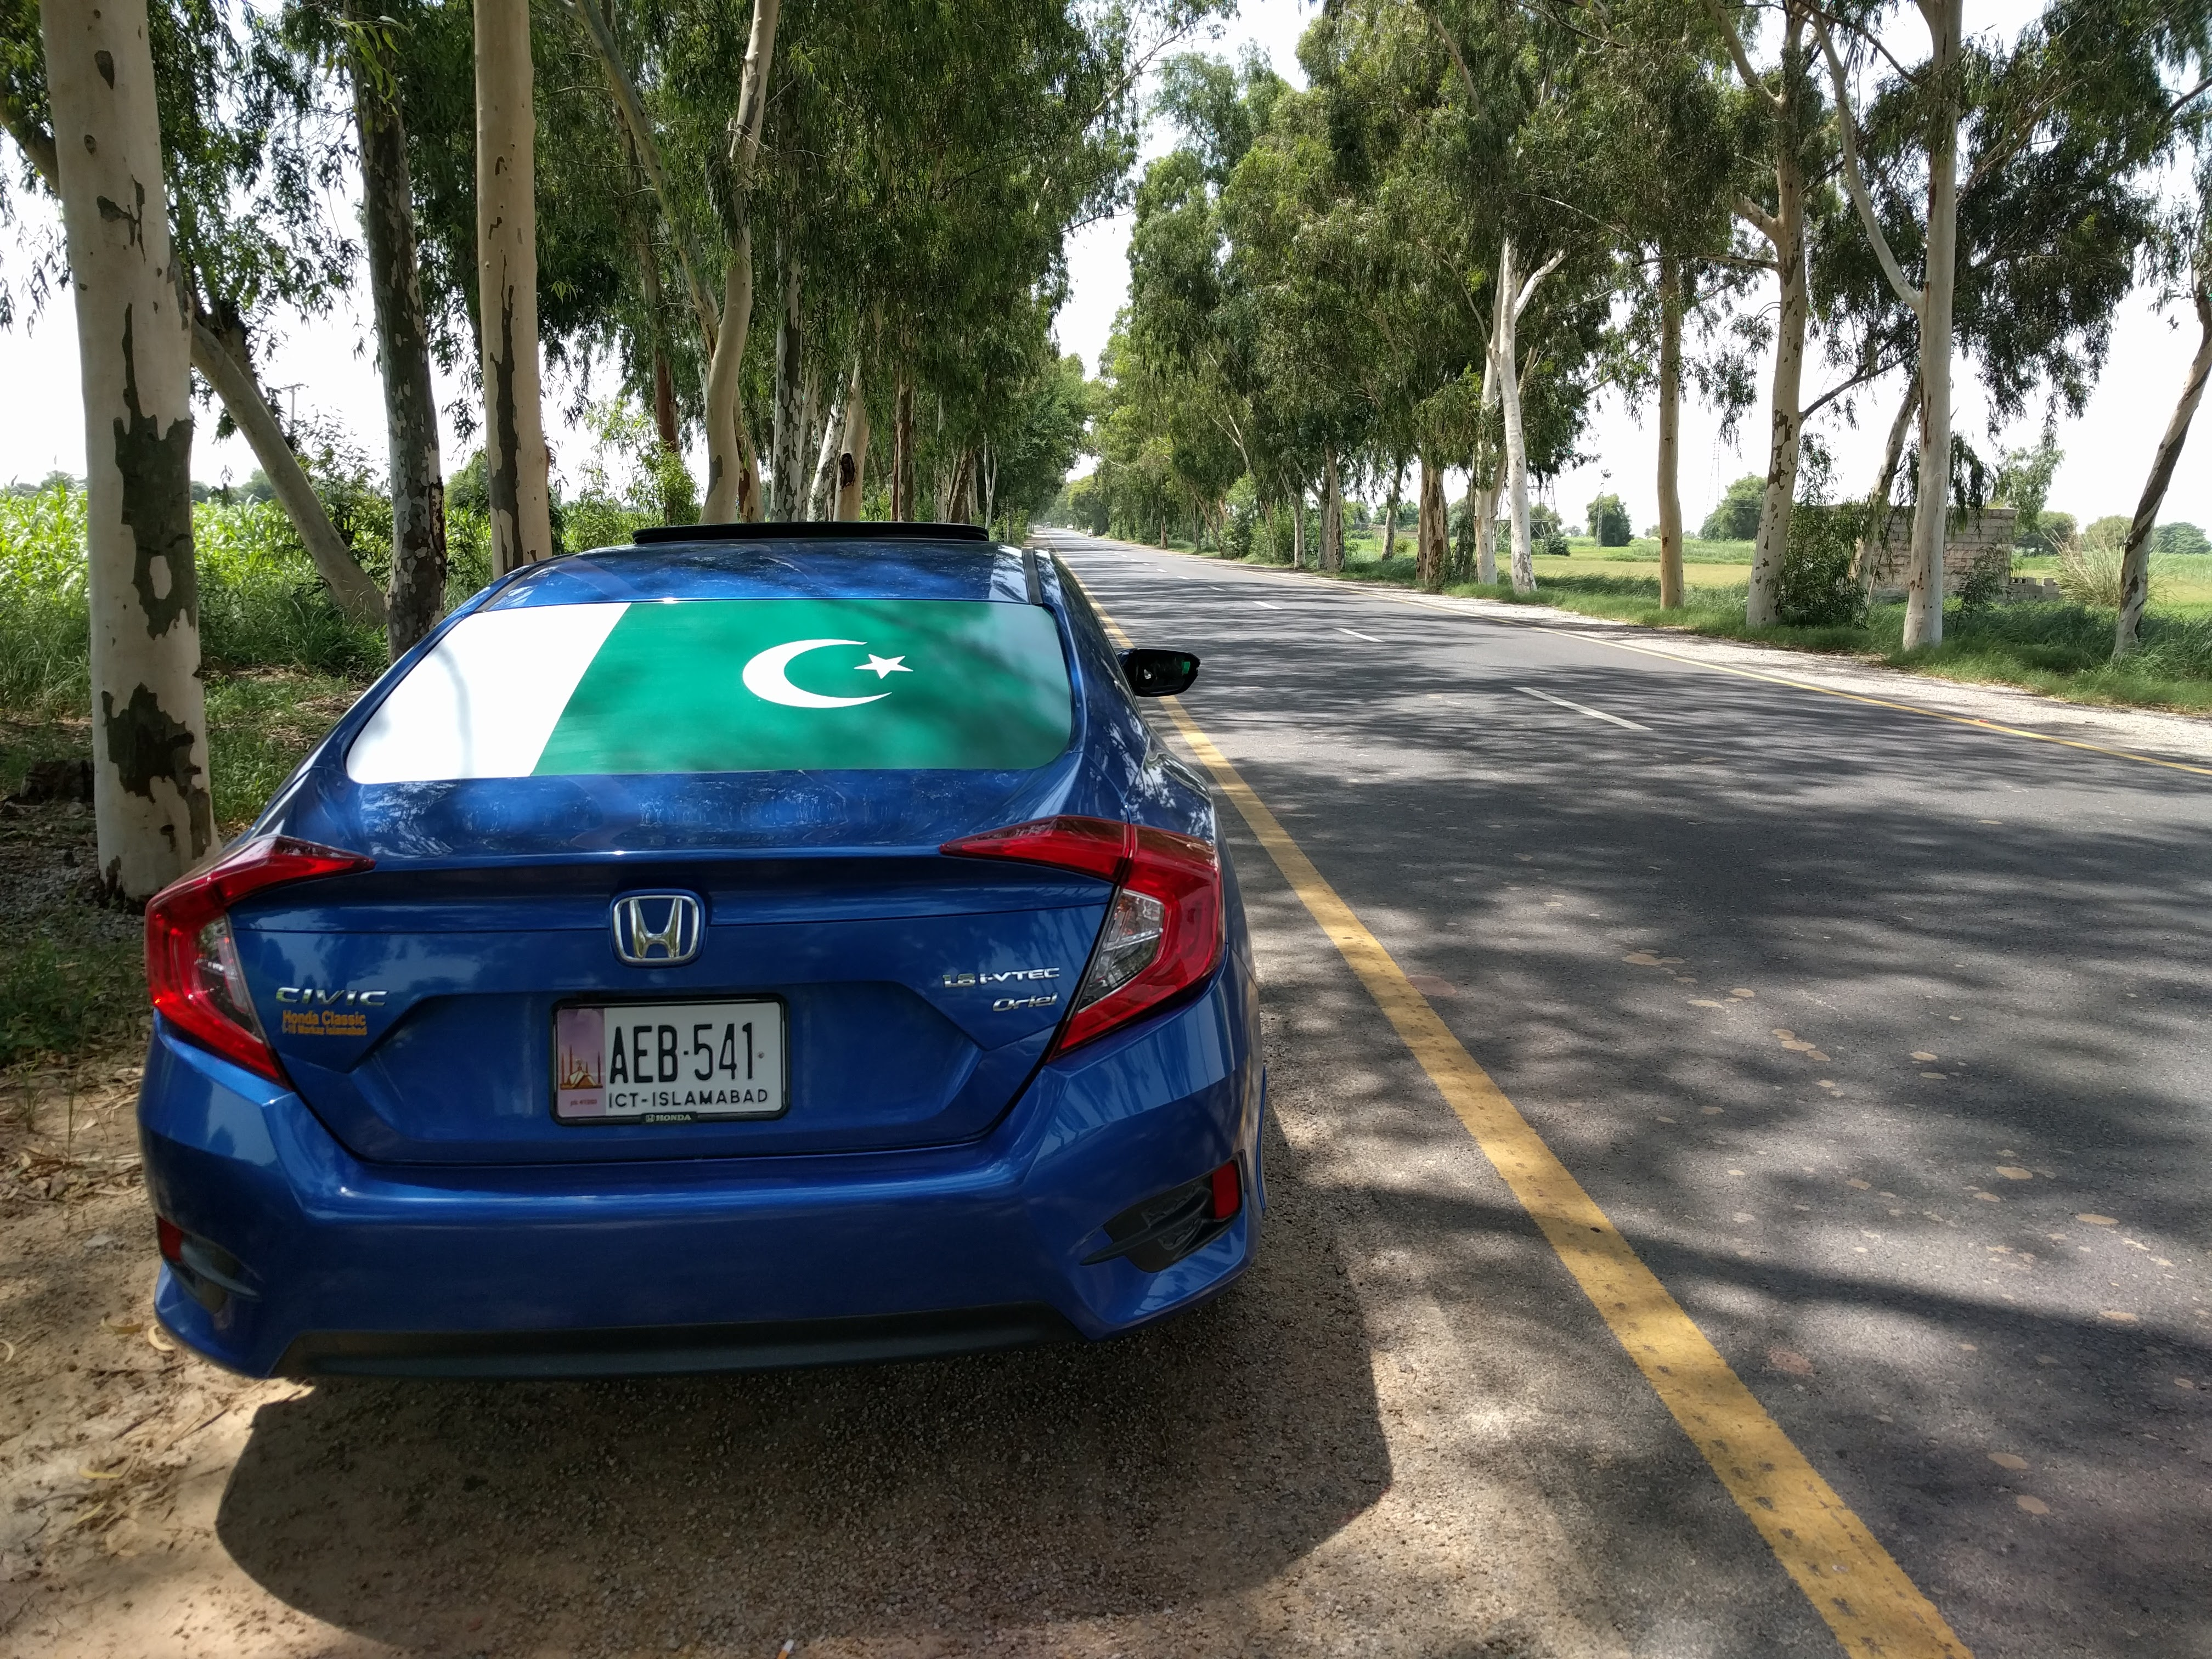plate: (538, 986, 796, 1132)
